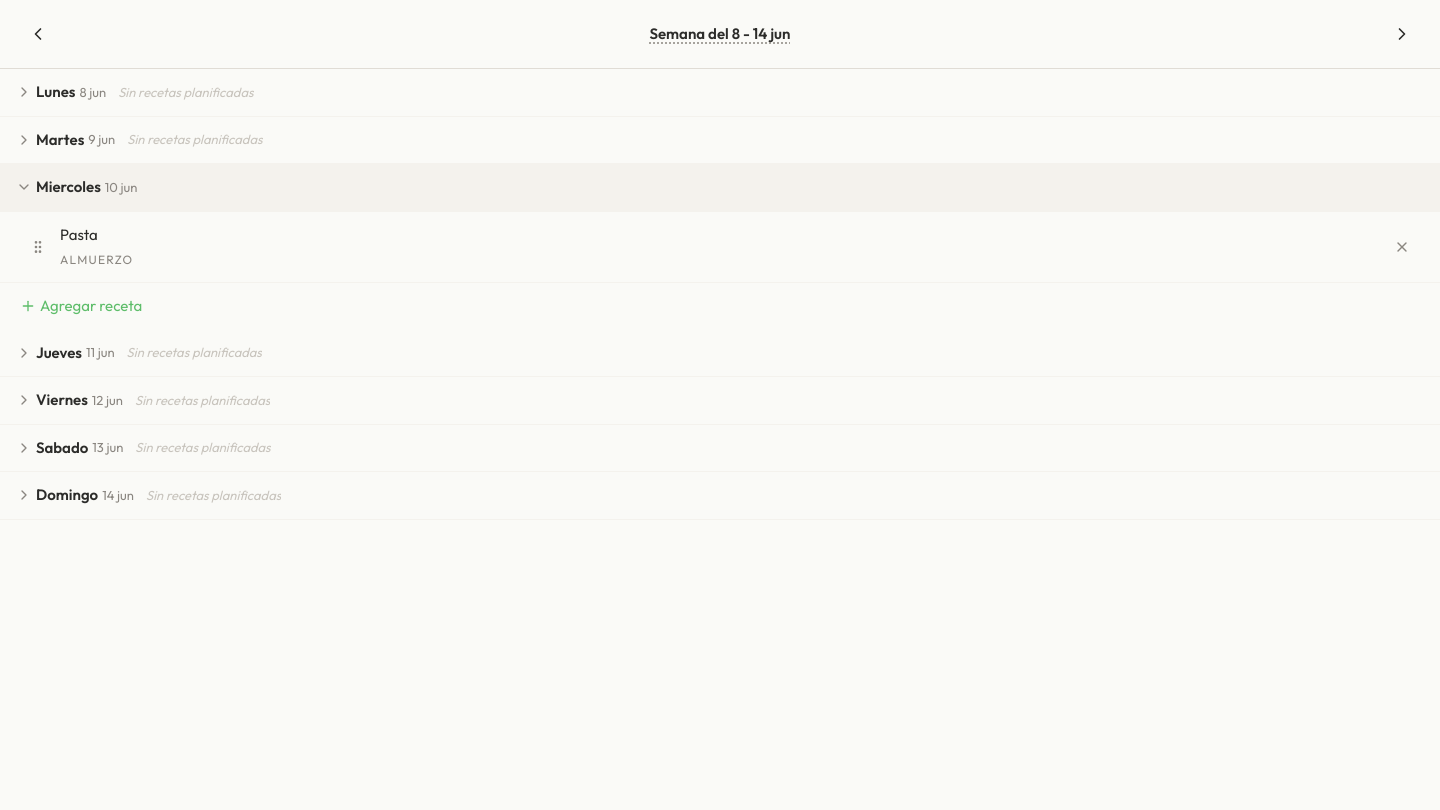
Scenario: PlannerPage › shows delete confirmation in edit sheet when Eliminar entrada is clicked
Step 1. Click the text "Pasta" → (79, 234), box top-left (60, 224), bottom-right (98, 244)
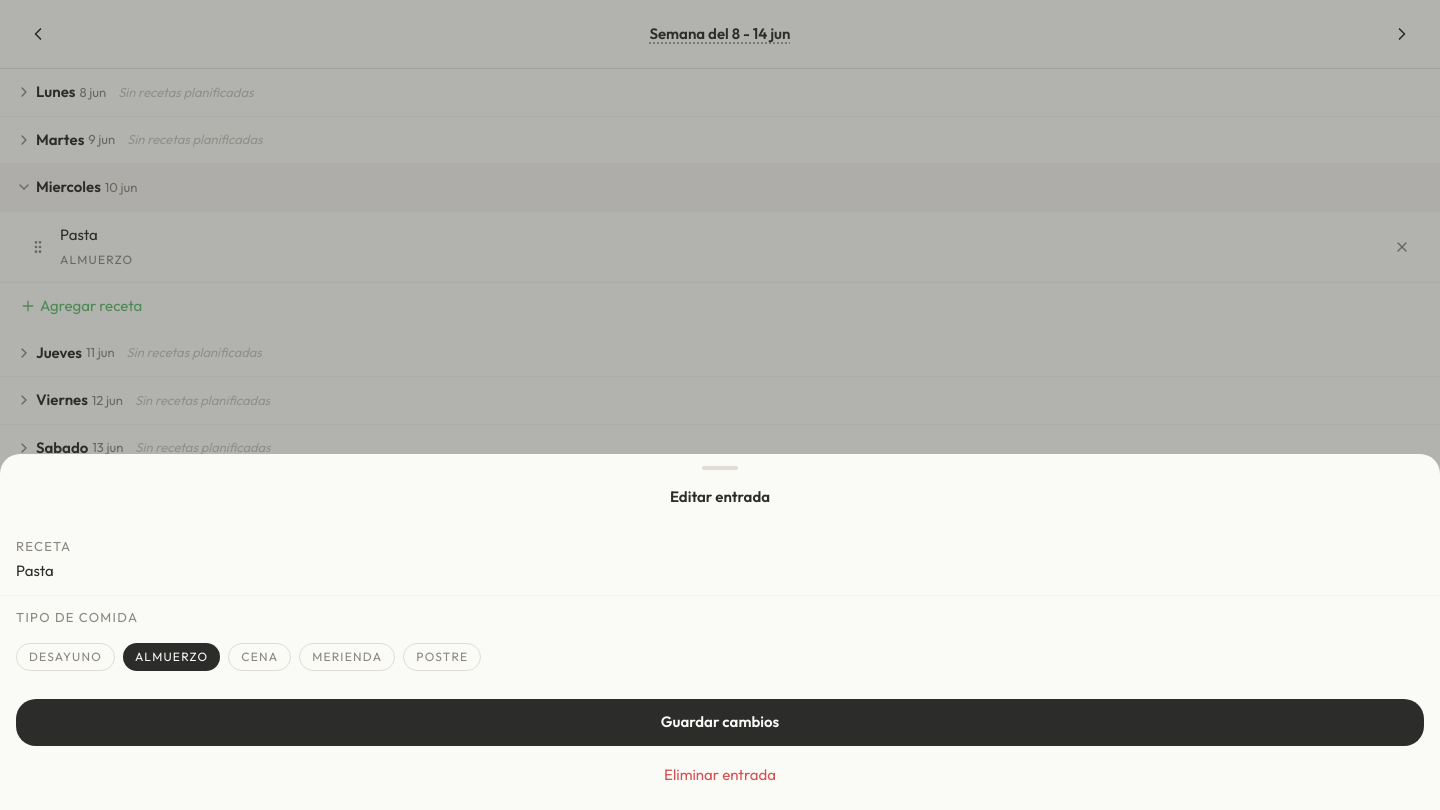
Expected: the text "Editar entrada" is shown, top-left (670, 487), bottom-right (770, 506)
Click the Eliminar entrada link in the edit sheet
Step 2. Click the button "Eliminar entrada" → (720, 775), box top-left (664, 764), bottom-right (776, 786)
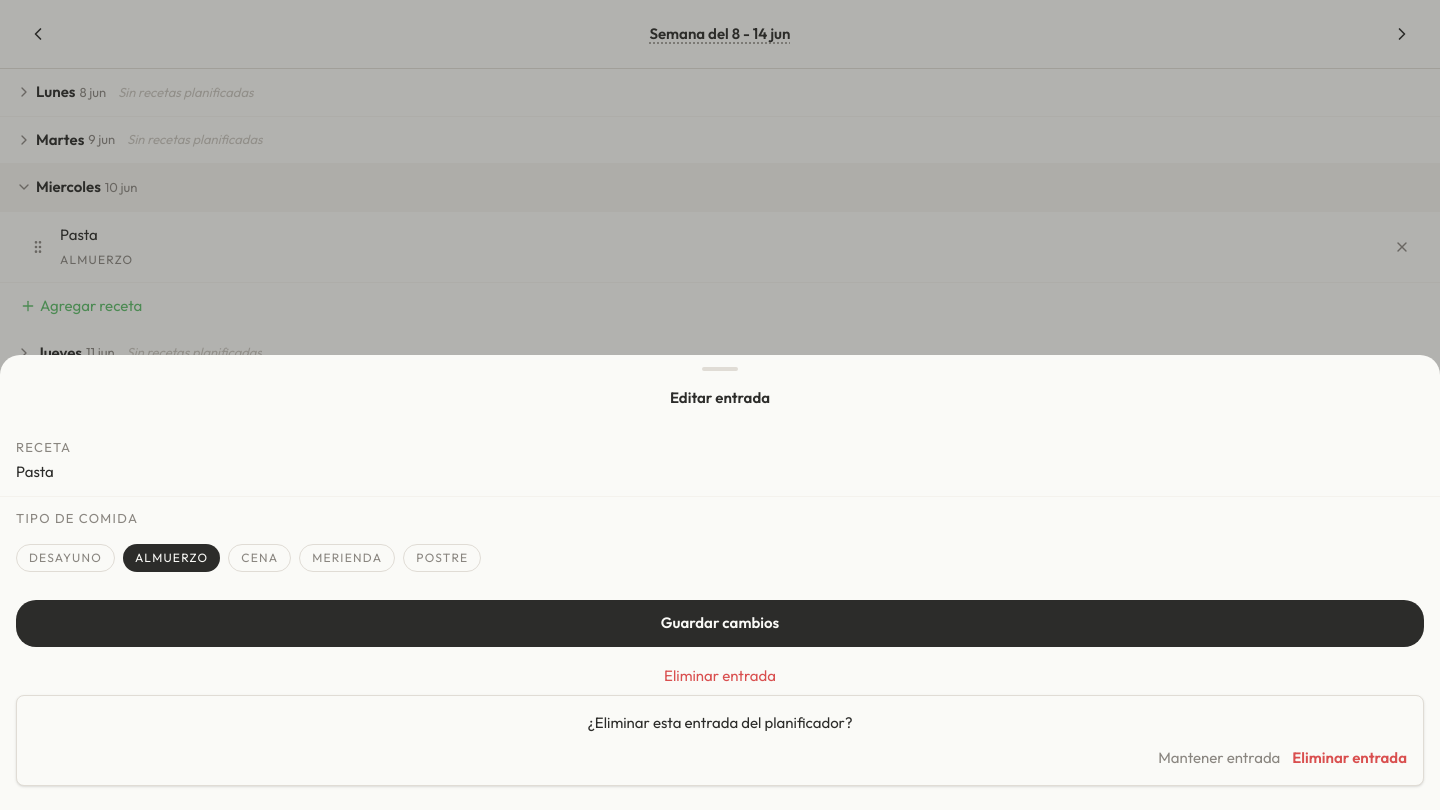
Expected: the text "¿Eliminar esta entrada del planificador?" is shown, top-left (588, 713), bottom-right (852, 732)
Expected: the button "Mantener entrada" is shown, top-left (1158, 746), bottom-right (1280, 769)
